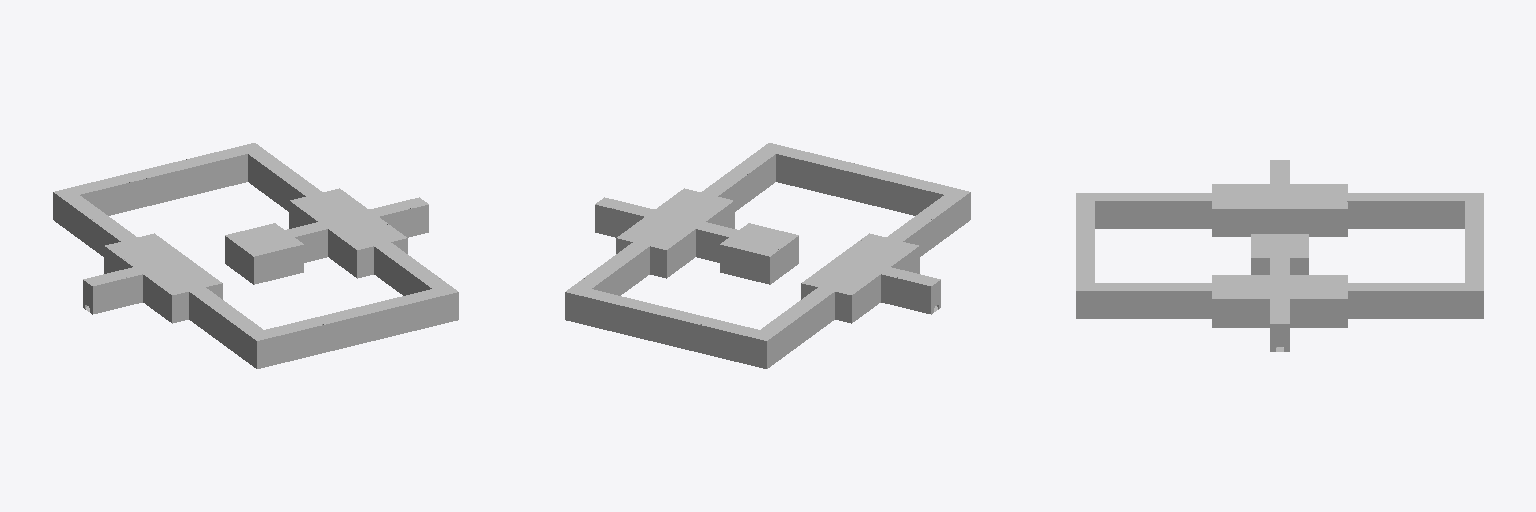
The model's file is Room2Low.obj.
3 renders of one model, left to right at view 1: azimuth 30°, elevation 25°; view 2: azimuth 150°, elevation 25°; view 3: azimuth 270°, elevation 25°, orthographic.
Visible parts, largest first — view 1: Room_2_Low_Cube.6051; view 2: Room_2_Low_Cube.6051; view 3: Room_2_Low_Cube.6051.
Part boxes in pixels (left/top/right/bottom): Room_2_Low_Cube.6051: left=53, top=143, right=458, bottom=368; Room_2_Low_Cube.6051: left=565, top=143, right=970, bottom=368; Room_2_Low_Cube.6051: left=1076, top=160, right=1483, bottom=351.
Bounding box in the file's own units: 200 × 16.01 × 210.